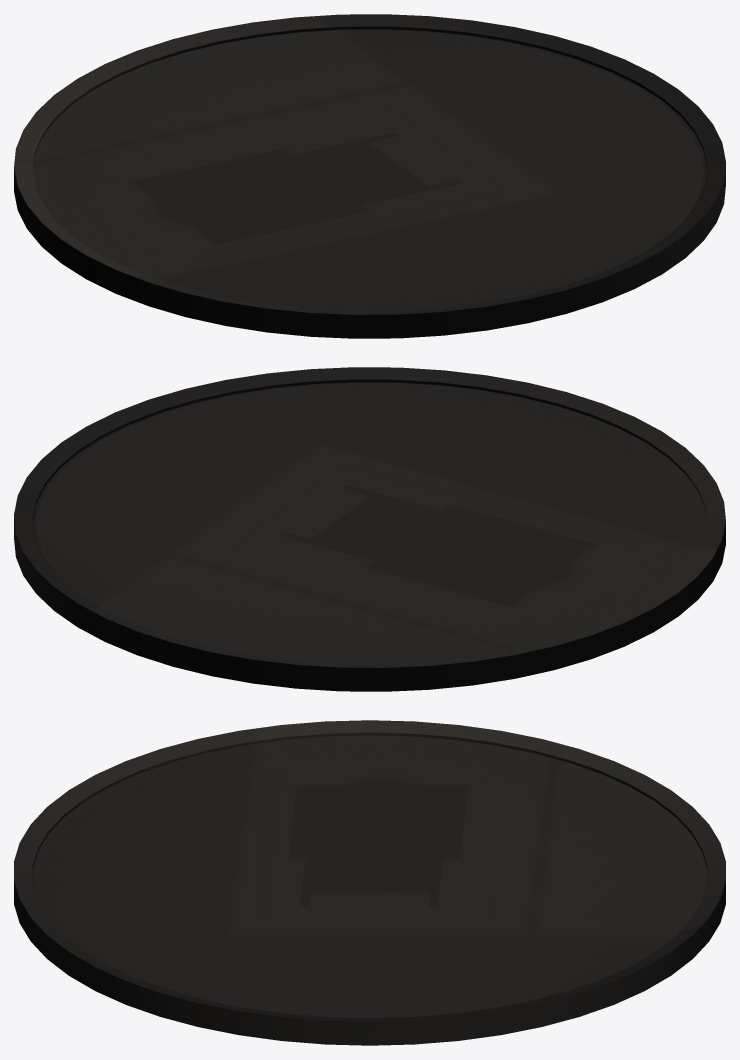
The model's file is floorben.obj.
3 renders of one model, top to bottom at view 1: azimuth 30°, elevation 25°; view 2: azimuth 150°, elevation 25°; view 3: azimuth 270°, elevation 25°, orthographic.
Parts seen in each view (by area): view 1: floor:Mesh; view 2: floor:Mesh; view 3: floor:Mesh.
Boxes of the visible parts, box(x1,y1,x2,y2) form: floor:Mesh: box(14, 14, 725, 338); floor:Mesh: box(14, 367, 725, 691); floor:Mesh: box(14, 720, 725, 1045).
Bounding box in the file's own units: 4.1 × 0.1518 × 4.09.
1 material, 1 textured.
